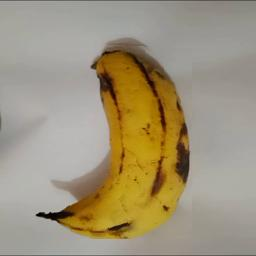Banana Semifresh: (39, 41, 193, 239)
